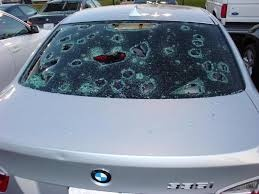Broken-glass: (21, 23, 232, 96)
